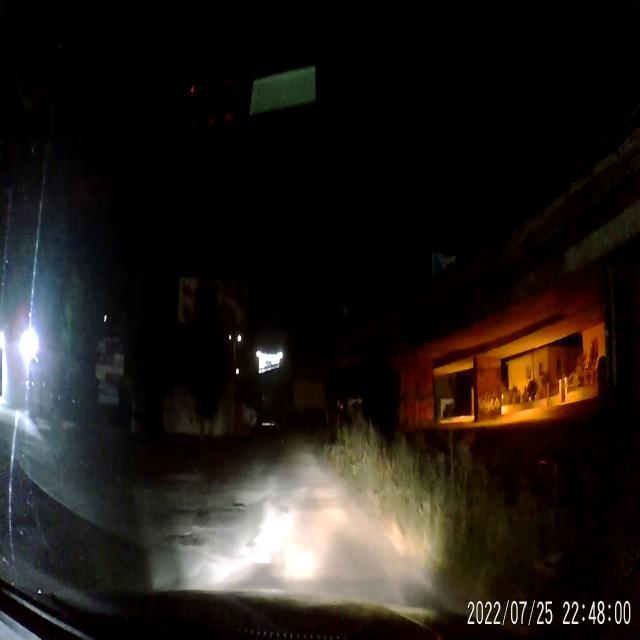Manhole: (170, 529, 200, 549)
Pothole: (230, 499, 248, 513)
